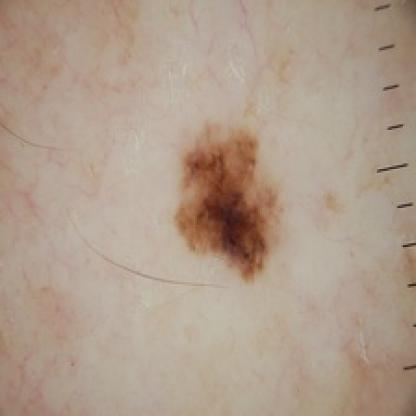malignant: (173, 121, 286, 278)
